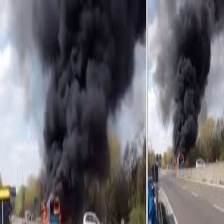smoke: (32, 1, 133, 206), (161, 4, 205, 161)
